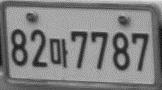2: (30, 28, 48, 67)
7: (70, 30, 88, 69), (131, 32, 149, 71), (90, 31, 108, 69)
8: (111, 32, 130, 70), (10, 29, 28, 66)
마: (49, 38, 68, 68)
